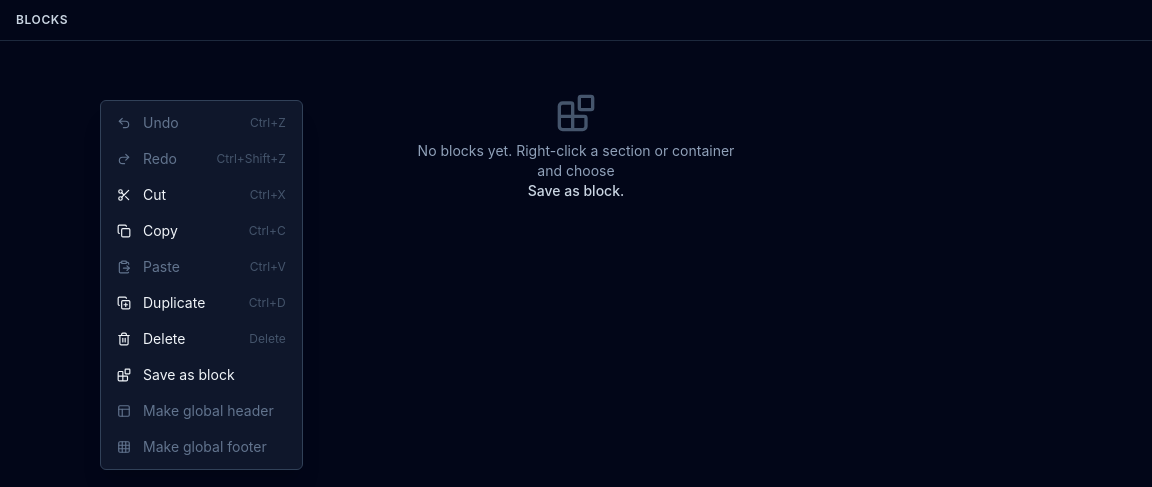
Test case: BlocksPanel › saving a section via the context menu adds a row
What coordinates should you click on to do the following:
click the button "Save as block"
I would click on:
 (201, 375)
Its box is left=105, top=357, right=298, bottom=393.
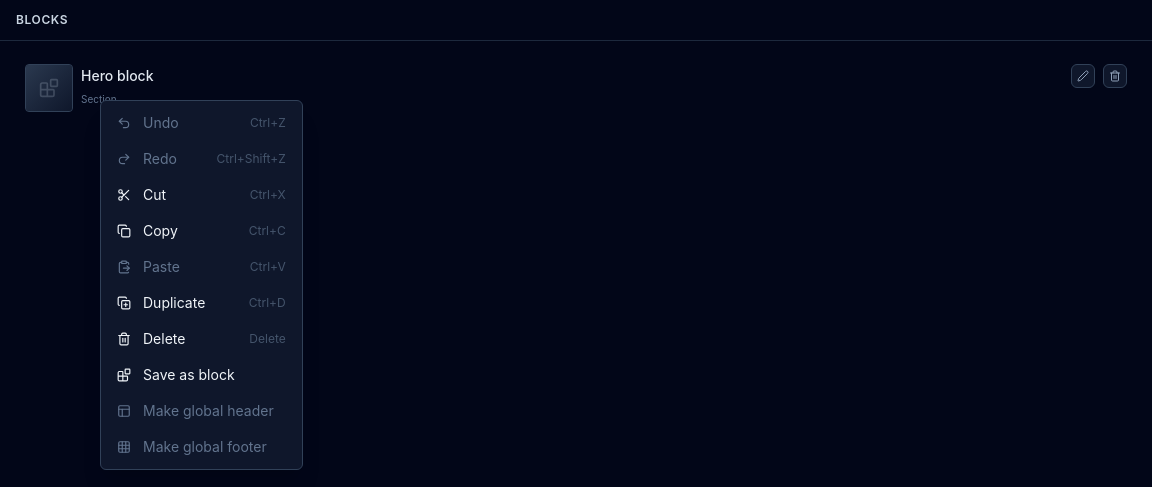
expect the text "Hero block" is shown: met, box left=81, top=67, right=154, bottom=84
